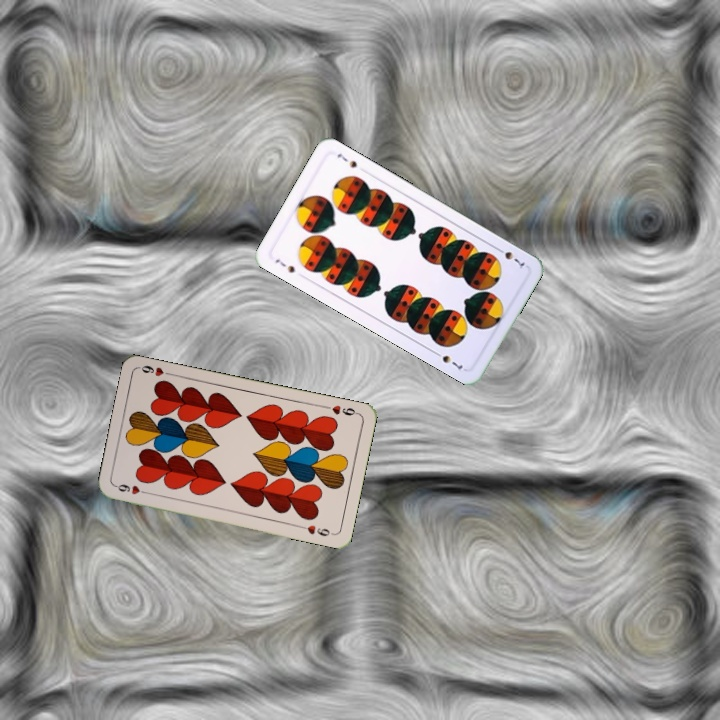H9: (321, 401, 361, 418), (112, 480, 152, 497)
S7: (492, 243, 528, 271), (271, 255, 297, 275)
